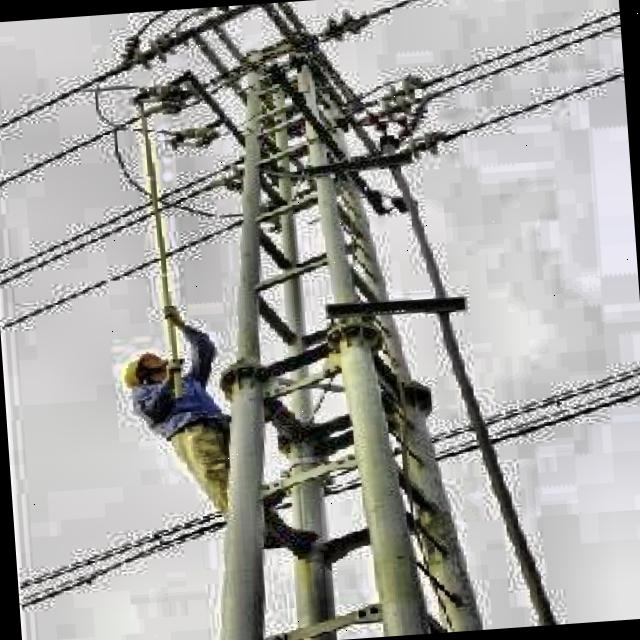helmet: (110, 348, 174, 394)
